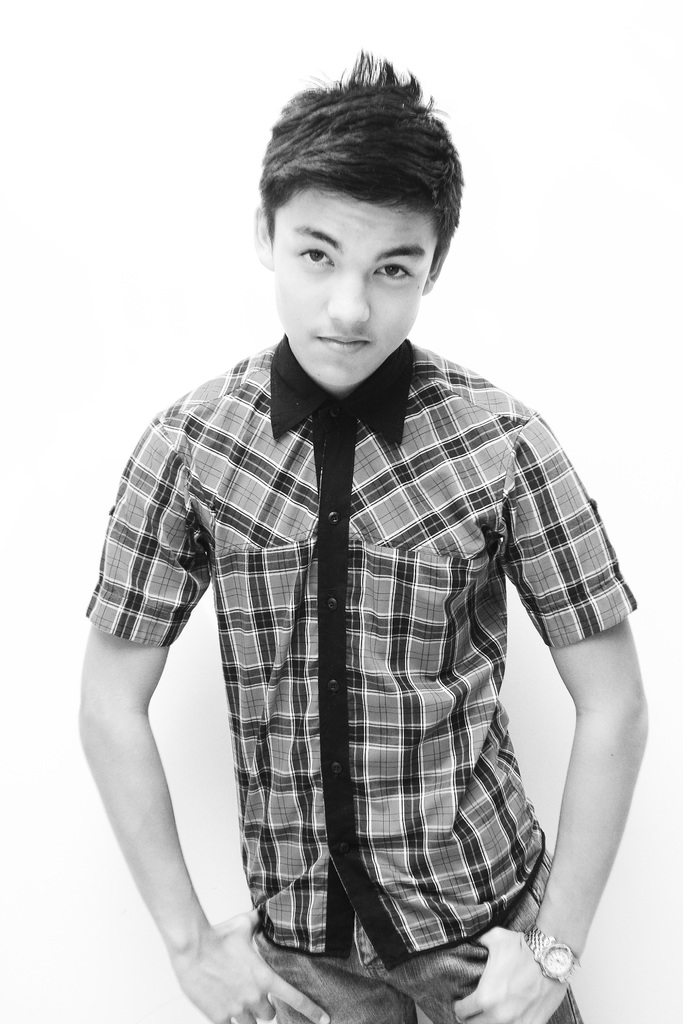face: (280, 153, 423, 402)
